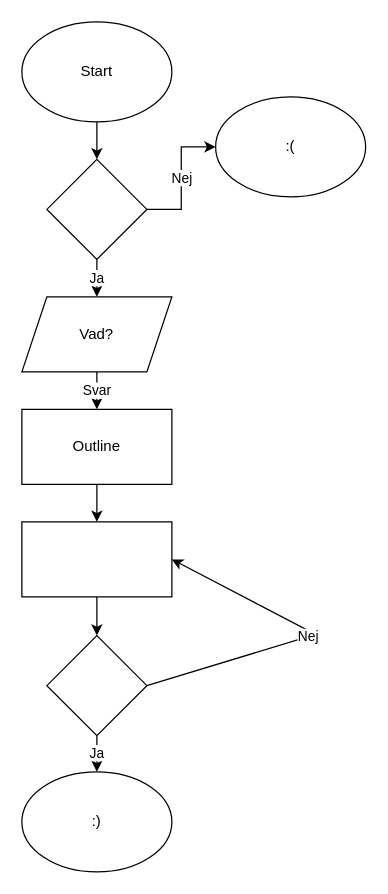
The diagram is 388 pixels wide and 894 high, and some of its shapes have lost their labels. Here are the shapes that lost their labels. From the top down, the box of each, then its label:
(46, 158, 147, 259): Har jag mina saker?
(21, 521, 172, 597): skugga
(46, 634, 147, 736): Ser den bra ut?
